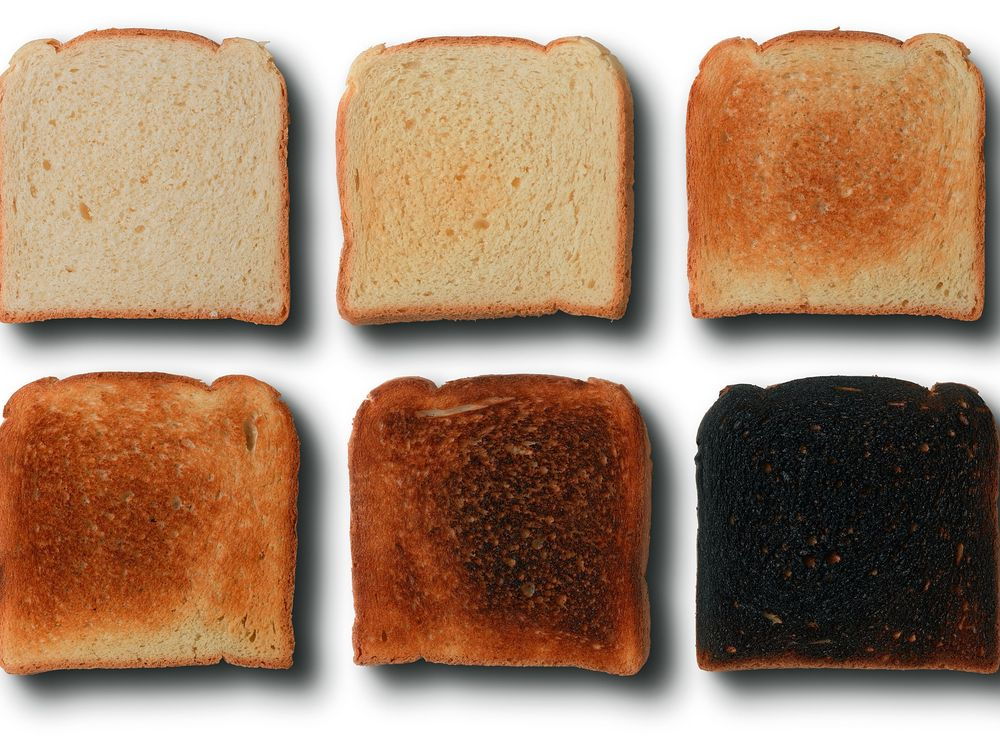Toast: (0, 364, 312, 680), (351, 370, 665, 677), (0, 28, 299, 328), (688, 30, 989, 322), (336, 35, 636, 321)
